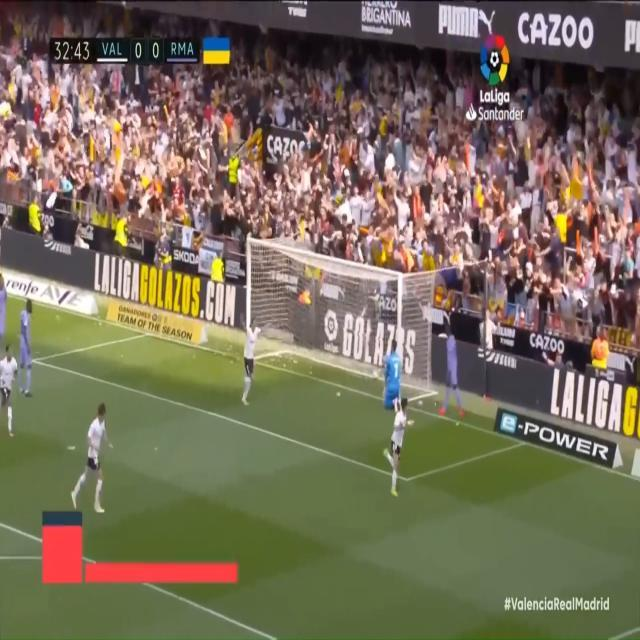ball: (373, 368, 380, 381)
goalkeeper: (383, 324, 403, 412)
player: (67, 400, 127, 535), (436, 320, 466, 426), (235, 316, 265, 415), (385, 392, 411, 505), (0, 339, 18, 444), (19, 293, 34, 402), (0, 274, 9, 345)
